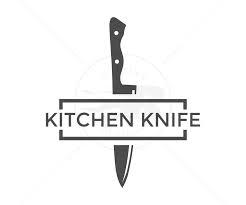Knife: (108, 16, 136, 187)
